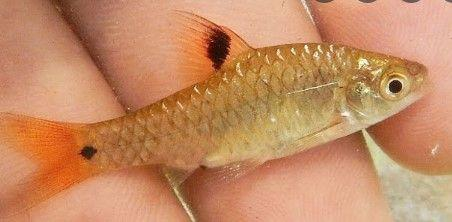Black Spotted Barb: (0, 8, 432, 222)
